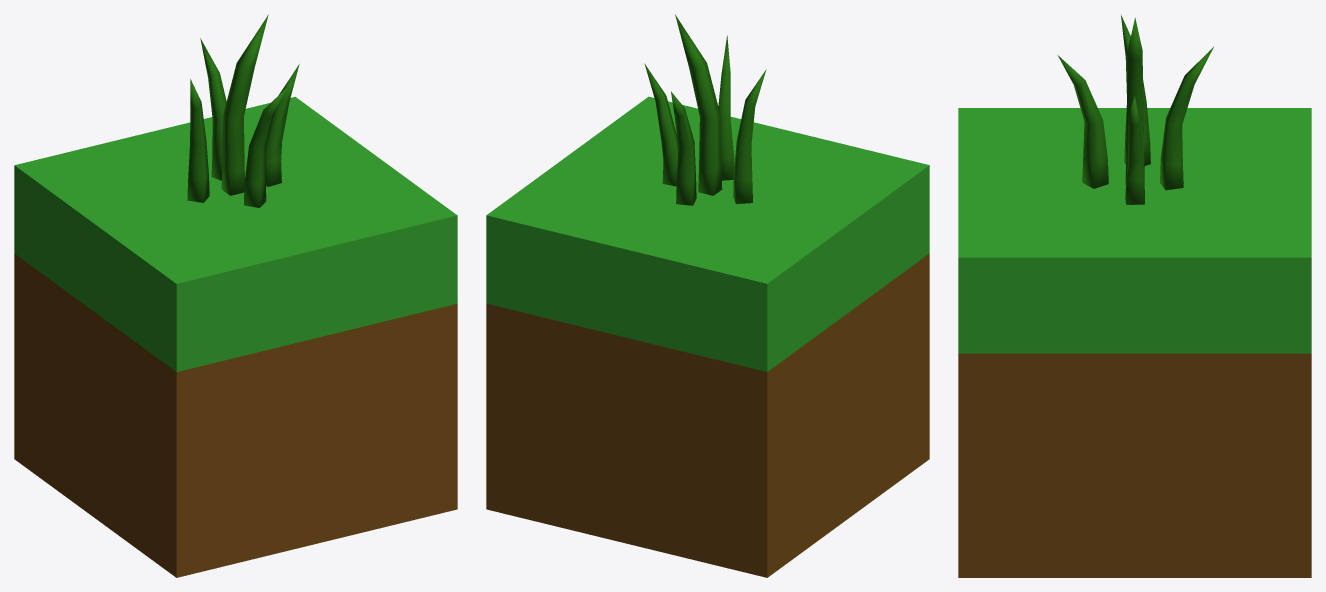
Rendered from ForestGrassBlender.glb.
The picture shows the model from 3 angles, left to right: view 1: azimuth 30°, elevation 25°; view 2: azimuth 150°, elevation 25°; view 3: azimuth 270°, elevation 25°; orthographic projection. The views are drawn at different scales.
Parts seen in each view (by area): view 1: ForestGround01, ForestGrass01.001; view 2: ForestGround01, ForestGrass01.001; view 3: ForestGround01, ForestGrass01.001.
Boxes of the visible parts, box(x1,y1,x2,y2) form: ForestGround01: box(14, 96, 457, 577); ForestGrass01.001: box(187, 14, 299, 207); ForestGround01: box(486, 96, 929, 577); ForestGrass01.001: box(644, 14, 766, 205); ForestGround01: box(958, 108, 1311, 577); ForestGrass01.001: box(1057, 15, 1213, 204).
Bounding box in the file's own units: 2 × 3.14 × 2.
Materials: 2 (2 with a texture image).
